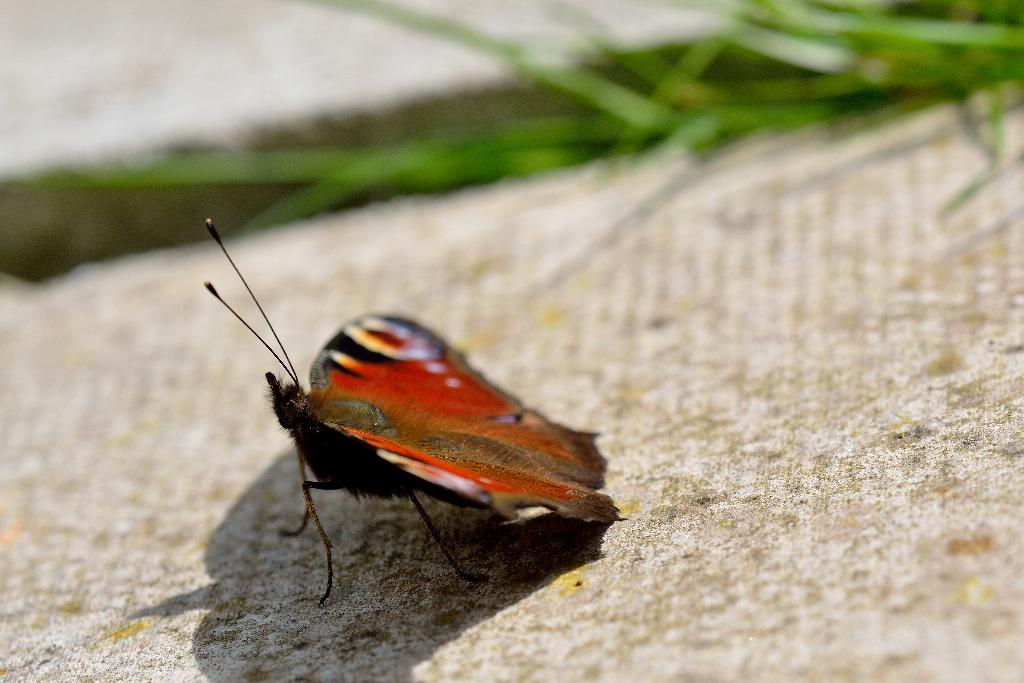Butterfly: (154, 182, 635, 634)
